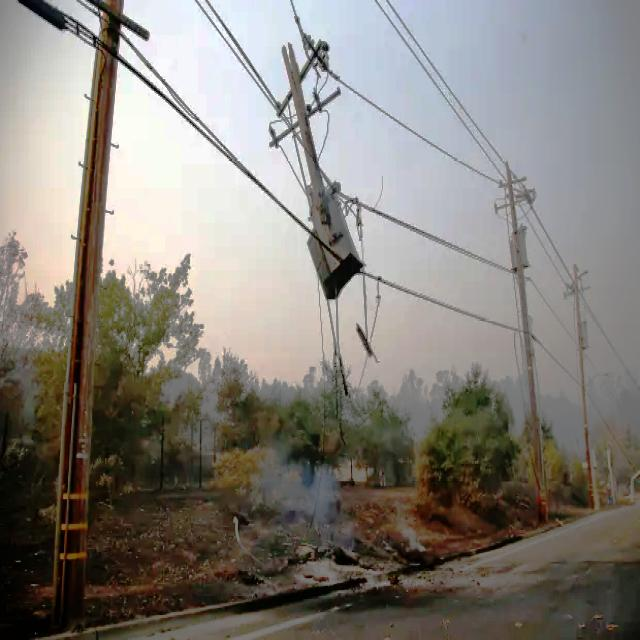obstruction: (278, 41, 375, 396)
poles: (38, 0, 150, 634), (274, 44, 383, 289), (507, 164, 547, 524), (569, 266, 598, 512)
wires: (347, 200, 579, 385), (116, 53, 312, 235), (377, 0, 514, 189), (313, 48, 483, 175), (193, 0, 271, 101), (580, 294, 637, 385), (13, 0, 97, 47), (529, 211, 573, 286)
